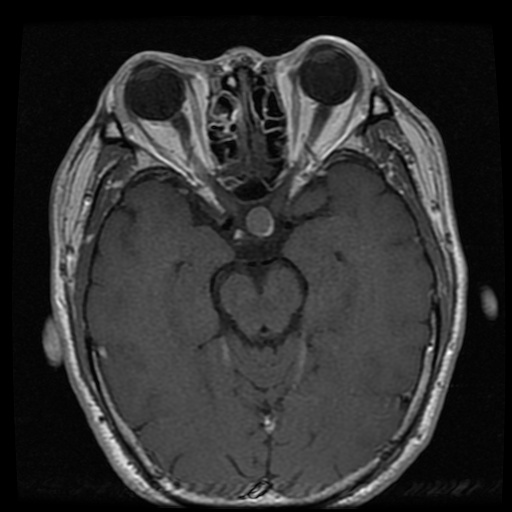pituitary: (246, 205, 272, 236)
